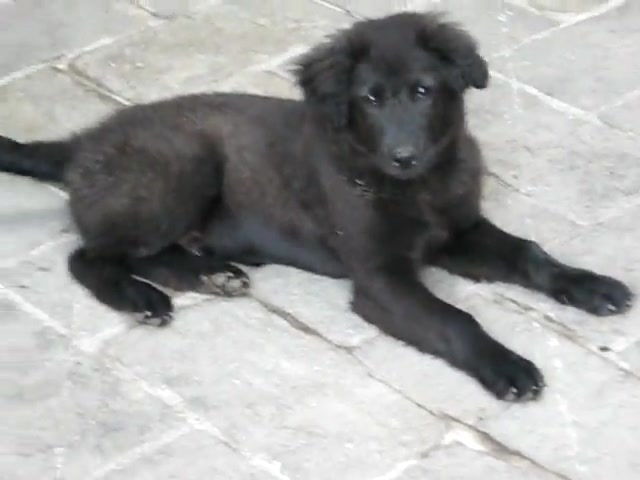dog: (1, 12, 637, 406)
